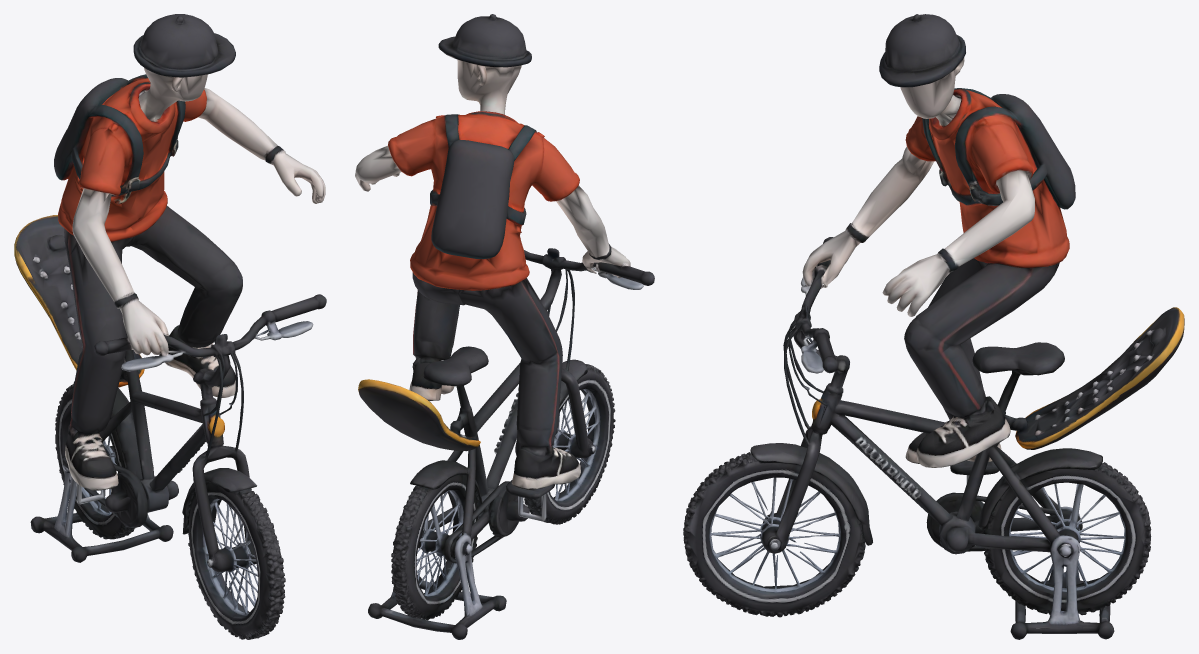
File: tripo_h31_mannequin_bicycle_vehicle_kit.glb
3 views of the same model, side by side, from view 1: azimuth 30°, elevation 25°; view 2: azimuth 150°, elevation 25°; view 3: azimuth 270°, elevation 25° (orthographic). The views are drawn at different scales.
Parts seen in each view (by area): view 1: tripo_node_a0ae3fdb-a8b5-4c85-ab58-2b95269667a6; view 2: tripo_node_a0ae3fdb-a8b5-4c85-ab58-2b95269667a6; view 3: tripo_node_a0ae3fdb-a8b5-4c85-ab58-2b95269667a6.
Part boxes in pixels (box(x1,y1,x2,y2)): tripo_node_a0ae3fdb-a8b5-4c85-ab58-2b95269667a6: box(14, 14, 326, 639); tripo_node_a0ae3fdb-a8b5-4c85-ab58-2b95269667a6: box(355, 14, 654, 639); tripo_node_a0ae3fdb-a8b5-4c85-ab58-2b95269667a6: box(683, 14, 1184, 639).
Bounding box in the file's own units: 0.4898 × 0.9997 × 0.7478.
Materials: 1 (1 with a texture image).
